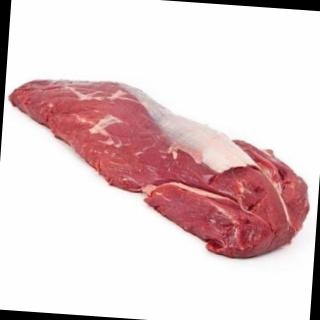Daging Sapi: (1, 76, 313, 262)
